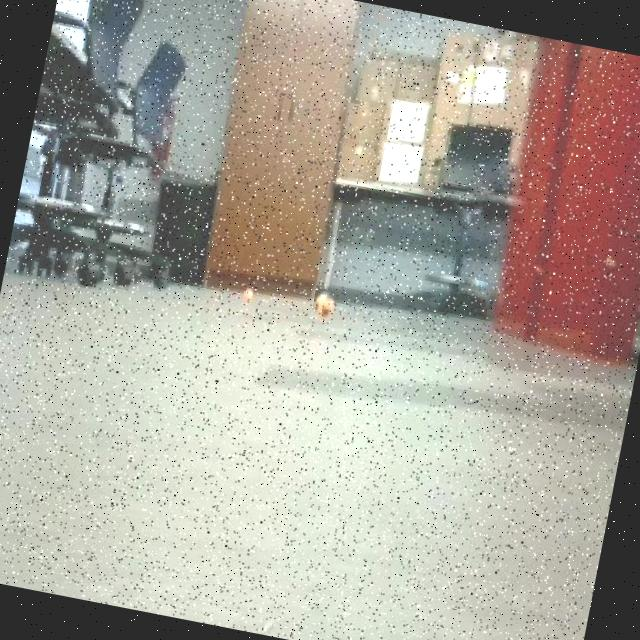ping-pong-ball: (309, 290, 339, 328)
